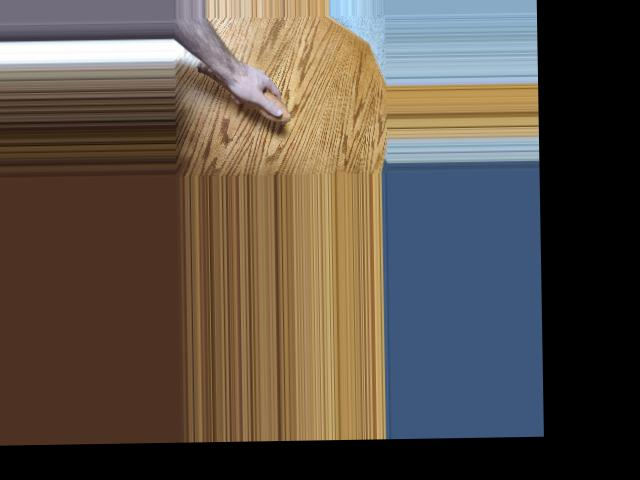sweet_potato: (194, 58, 292, 123)
